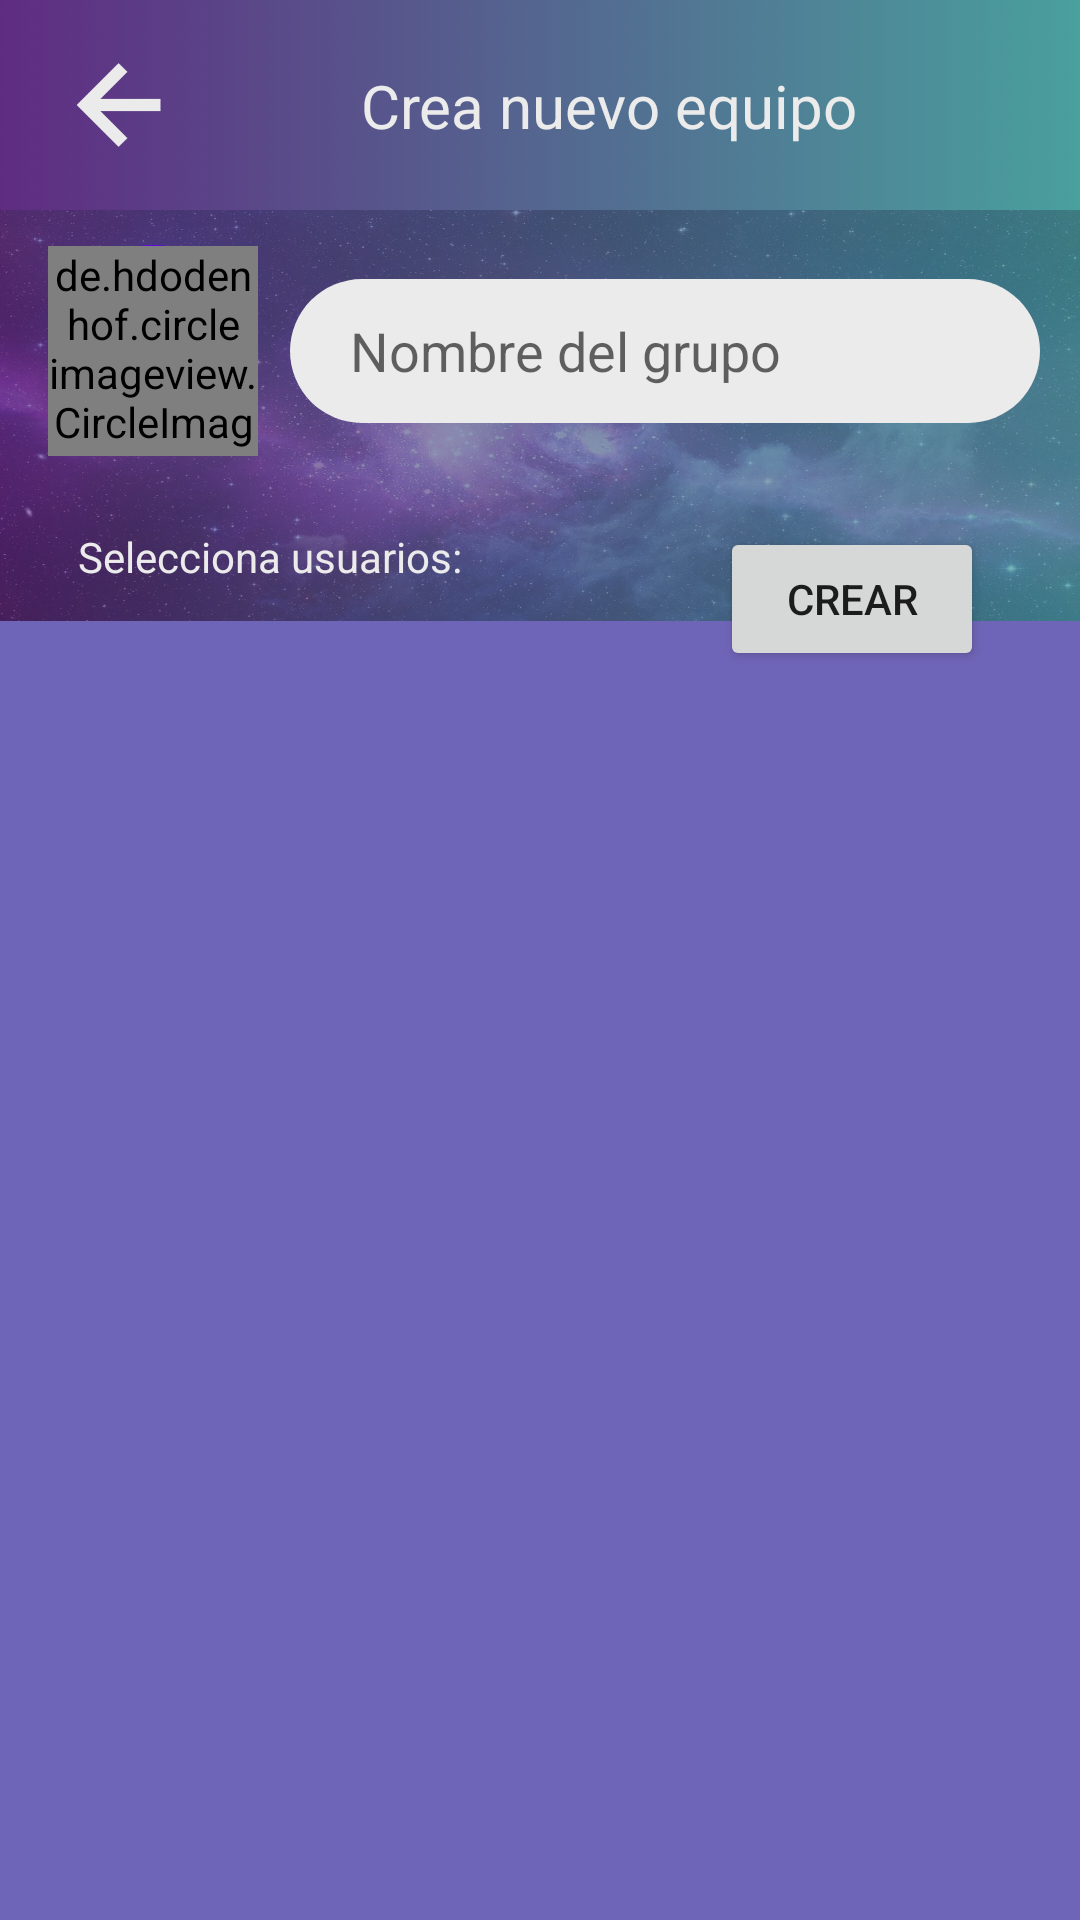

Locate icon controls on the screen. Image size 1080*1920, boxes as (x1, y1, x2, y2).
left arrow: (77, 63, 161, 147)
